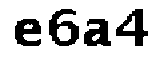4: (114, 5, 151, 49)
6: (48, 5, 81, 51)
a: (84, 17, 113, 49)
e: (13, 14, 44, 48)
